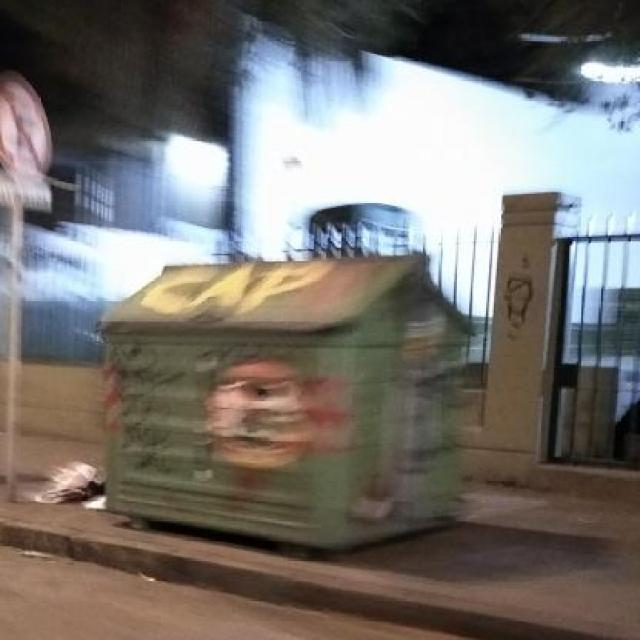garbage: (31, 437, 106, 532)
